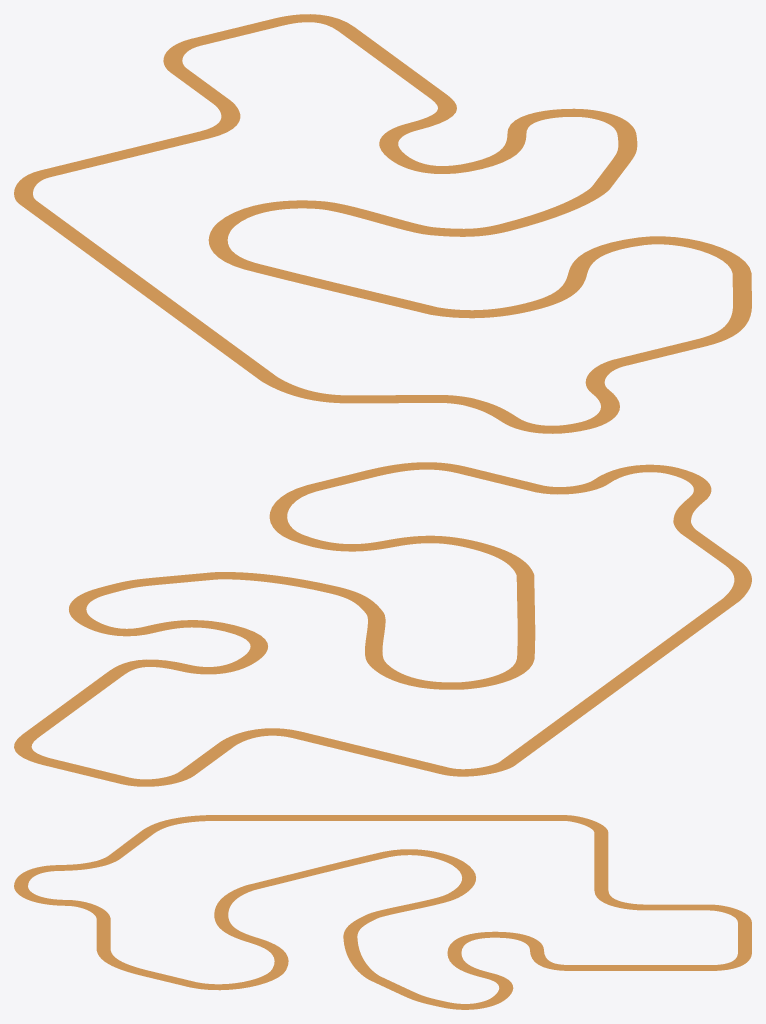
File: track.glb
3 renders of one model, top to bottom at view 1: azimuth 30°, elevation 25°; view 2: azimuth 150°, elevation 25°; view 3: azimuth 270°, elevation 25°, orthographic. The views are drawn at different scales.
Parts seen in each view (by area): view 1: Track; view 2: Track; view 3: Track.
Boxes of the visible parts, x1,y1,x2,y2 form: Track: (14, 14, 751, 433); Track: (14, 462, 751, 786); Track: (14, 815, 751, 1009).
Size of the model in its own units: 64.26 by 0 by 103.
